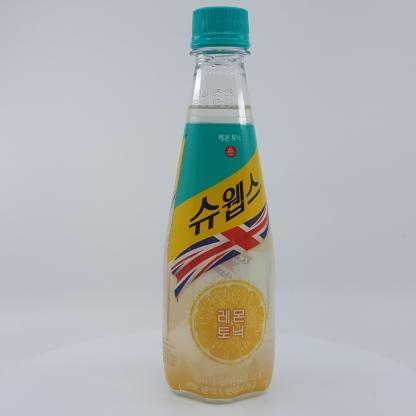-------350ML: (162, 6, 276, 404)
